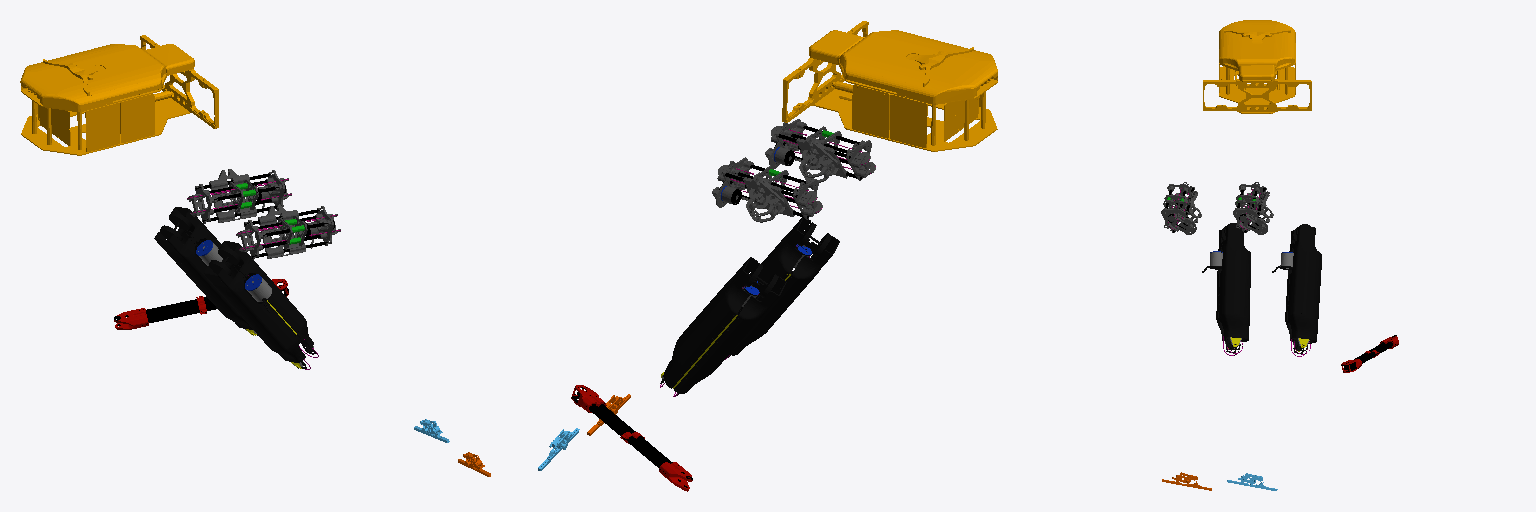
The robot description file, URDF, robot "mercury":
<?xml version="1.0" ?>
<robot name="mercury" xmlns:xacro="http://ros.org/wiki/xacro">
  <!-- ===== DUMMY 'BASE' LINK ==== -->
  <link name="body">
    <inertial>
       <mass value="9.0"/> 
      <!--<mass value="9.5"/>-->
      <!-- <origin xyz="0.00347 0.0 0.22524"/> -->
      <origin xyz="0.0 0.0 0.22524"/>
      <inertia ixx="0.3006167" ixy="0" ixz="0" iyy="0.23837" iyz="0" izz="0.09690467"/>
    </inertial>
    <visual>
        <geometry>
         <mesh filename="meshes/white_torso.obj" scale="0.508 0.508 0.508"/>
     </geometry>
      <origin rpy="1.555 0 1.57" xyz="-0.46 -0.284 -.098"/>
    </visual>
    <!--<visual>-->
        <!--<geometry>-->
         <!--<mesh filename="meshes/color_torso.obj" scale="0.118 0.118 0.118"/>-->
     <!--</geometry>-->
       <!--<origin rpy="0 0 1.57" xyz="-0.12 0.204 -.0665"/>		-->
    <!--</visual>-->
  </link>
  <!-- IMU -->
  <joint name="fixed_imu" type="fixed">
    <axis xyz="0 1 0"/>
    <origin rpy="0 0 0" xyz="-0.02 -0.07 0.22"/>
    <parent link="body"/>
    <child link="imu" />
  </joint>
  <link name="imu">
    <inertial>
      <mass value="0.0000000000001"/>
      <origin xyz="0.0 0.0 0.0"/>
      <inertia ixx="0.0000000001" ixy="0" ixz="0.0" iyy="0.000000001" iyz="0" izz="0.00000000001"/>
    </inertial>
  </link>


  <!--!!!!!!!!!!!!!!!!!!!!!RIGHT LEG!!!!!!!!!!!!!!!!!!!!!!!!!!!!!!!!!!!!!!!!!!!!!!!!-->
  <joint name="1_torso_to_abduct_r_j" type="continuous">
    <axis xyz="1 0 0"/>
    <origin rpy="0 0 0" xyz="0.0 -0.1397 0.0"/>
    <parent link="body"/>
    <child link="abduct_r"/>
  </joint>
  <link name="abduct_r">
    <inertial>
      <mass value="2.1656"/>
      <origin xyz="-0.03416 -0.00075 0.04293"/>
      <inertia ixx="0.003735" ixy="0.0" ixz="0.0" iyy="0.01391" iyz="0.0" izz="0.01355"/>
    </inertial>
      <visual>
      <geometry>
        <mesh filename="meshes/color_abduction_R.dae" scale="0.001 0.001 0.001"/>
      </geometry>
      <origin rpy="3.14159 1 -1.675" xyz="-0.192 -0.079 -0.01"/>
    </visual>
 </link>

  <joint name="abduct_r_to_thigh_r_j" type="continuous">
    <axis xyz="0 1 0"/>
    <!-- <origin rpy="0 0 0.0" xyz="0.0 0.0 -0.03535"/> -->
    <origin rpy="0.01 0.0 0.007" xyz="0.0 0.0 -0.03535"/>
    <parent link="abduct_r"/>
    <child link="thigh_r"/>
  </joint>
  <link name="thigh_r">
    <inertial>
      <!-- <mass value="3.682"/> -->
      <mass value="3.6"/>
      <origin xyz="-0.00396 0.000018 -0.175"/>
      <inertia ixx="0.038482" ixy="0" ixz="0.0" iyy="0.039835" iyz="-0.003" izz="0.0042934"/>
    </inertial>
      <visual>
      <geometry>
        <mesh filename="meshes/color_thigh_R.dae" scale="0.001 0.001 0.001"/>
      </geometry>
      <origin rpy="0.25 2.538 0.3625" xyz="-0.105 -0.059 -0.482"/>
    </visual>
 </link>

  <joint name="thigh_r_to_knee_r_j" type="continuous">
    <axis xyz="0 1 0"/>
    <!--<origin rpy="0 0 -0.05974278" xyz="0.0181 0.0 -0.4575"/>-->
    <origin rpy="0.0 0 0.0" xyz="0.0181 0.00 -0.4575"/>
    <parent link="thigh_r"/>
    <child link="shank_r"/>
  </joint>
  <link name="shank_r">
    <inertial>
      <mass value="0.649"/>
      <origin xyz="0.0 0.0 -0.235"/>
      <inertia ixx="0.00338" ixy="0" ixz="0.0" iyy="0.00338" iyz="0" izz="0.000011"/>
    </inertial>
     <visual>
      <geometry>
        <mesh filename="meshes/color_shank_R.dae" scale="0.001 0.001 0.001"/>
      </geometry>
      <!--<origin rpy="0 0 0" xyz="-0.218 0.0565 -0.092"/>-->
      <origin rpy="-1.885 0 2.25" xyz="-0.206 0.059 -0.08"/>
    </visual>
  </link>

  <joint name="ankle_r" type="continuous">
    <axis xyz="0 1 0"/>
    <!-- <origin rpy="0 0 0" xyz="0.0 0.0 -0.47"/> -->
    <origin rpy="0 0 0" xyz="0.005 -0.01 -0.47"/> 
    <parent link="shank_r"/>
    <child link="rfoot" />
  </joint>
  <link name="rfoot">
    <inertial>
      <mass value="0.123"/>
      <origin xyz="0.0 0.0 0.0"/>
      <inertia ixx="0.00001" ixy="0" ixz="0.0" iyy="0.00001" iyz="0" izz="0.00001"/>
    </inertial>
      <visual>
      <geometry>
        <mesh filename="meshes/color_foot_R.obj" scale="1 1 1"/>
      </geometry>
      <!--<origin rpy="1.84159 1.3608 0.275" xyz="0.090 0.028 0.454"/>-->
      <origin rpy="1.6 1.38 0" xyz="0.097 0.05 0.455"/>
    </visual>
  </link>

  <!--!!!!!!!!!!!!!!!!!!!!!left LEG!!!!!!!!!!!!!!!!!!!!!!!!!!!!!!!!!!!!!!!!!!!!!!!!-->
  <joint name="2_torso_to_abduct_l_j" type="continuous">
    <axis xyz="1 0 0"/>
    <origin rpy="0 0 0" xyz="0.0 0.1397 0.0"/>
    <parent link="body"/>
    <child link="abduct_l"/>
  </joint>
  <link name="abduct_l">
    <inertial>
      <mass value="2.1656"/>
      <origin xyz="-0.03416 0.00075 0.04293"/>
      <inertia ixx="0.003735" ixy="0.0" ixz="0.0" iyy="0.01391" iyz="0.0" izz="0.01355"/>
    </inertial>
     <visual>
      <geometry>
        <mesh filename="meshes/color_abduction_L.dae" scale="0.001 0.001 0.001"/>
      </geometry>
      <!-- <origin rpy="1.5708 0 1.5708" xyz="0.0 0.0 -0.038"/> -->
      <origin rpy="3.14159 1 -1.675" xyz="-0.192 -0.079 -0.01"/>
    </visual>
 </link>

  <joint name="abduct_l_to_thigh_l_j" type="continuous">
    <axis xyz="0 1 0"/>
    <origin rpy="0.0 0 0.007" xyz="0.0 -0.005 -0.03535"/>
    <parent link="abduct_l"/>
    <child link="thigh_l"/>
  </joint>
  <link name="thigh_l">
    <inertial>
      <!-- <mass value="3.682"/> -->
      <mass value="3.6"/>
      <origin xyz="-0.00396 -0.000018 -0.175"/>
      <inertia ixx="0.038482" ixy="0" ixz="0.0" iyy="0.039835" iyz="0" izz="0.0042934"/>
    </inertial>
     <visual>
      <geometry>
        <mesh filename="meshes/color_thigh_L.dae" scale="0.001 0.001 0.001"/>
      </geometry>
      <origin rpy="0.275 2.538 0.3565" xyz="-0.105 -0.0655 -0.482"/>
    </visual>
   </link>

  <joint name="thigh_l_to_knee_l_j" type="continuous">
    <axis xyz="0 1 0"/>
    <!-- <origin rpy="0 0 -0.00472424" xyz="0.0181 0.0 -0.4575"/> -->
    <origin rpy="0 0 0.005" xyz="0.0181 -0.01 -0.4575"/>
    <parent link="thigh_l"/>
    <child link="shank_l"/>
  </joint>
  <link name="shank_l">
    <inertial>
      <mass value="0.649"/>
      <origin xyz="0.0 0.0 -0.235"/>
      <inertia ixx="0.00338" ixy="0" ixz="0.0" iyy="0.00338" iyz="0" izz="0.000011"/>
    </inertial>
     <visual>
      <geometry>
        <mesh filename="meshes/color_shank_L.dae" scale="0.001 0.001 0.001"/>
      </geometry>
       <!--<origin rpy="1.5708 1.075 0" xyz="-0.043 0.0565 -0.015"/> -->
      <origin rpy="-1.9 0.025 2.25" xyz="-0.21 0.059 -0.0885"/>
    </visual>
   </link>

  <joint name="ankle_l" type="continuous">
    <axis xyz="0 1 0"/>
    <origin rpy="0 0 0" xyz="0.005 -0.02 -0.47"/>
    <parent link="shank_l"/>
    <child link="lfoot" />
  </joint>
  <link name="lfoot">
    <inertial>
      <mass value="0.123"/>
      <origin xyz="0.0 0.0 0.0"/>
      <inertia ixx="0.00001" ixy="0" ixz="0.0" iyy="0.00001" iyz="0" izz="0.00001"/>
    </inertial>
   <visual>
      <geometry>
          <mesh filename="meshes/color_foot_L.obj" scale="1 1 1"/>
      </geometry>
      <!-- <origin rpy="1.5708 1.38 0" xyz="0.095 0.0698 0.450"/> -->
      <!--<origin rpy="1.84159 1.3608 0.275" xyz="0.090 0.0508 0.454"/>-->
      <origin rpy="1.57 1.375 0" xyz="0.095 0.0565 0.4525"/>
    </visual>
  </link>

  <!--!!!!!!!!!!!!!!!!!!!!! LED !!!!!!!!!!!!!!!!!!!!!!!!!!!!!!!!!!-->
  <!-- LED_Body 0: attached on the body front -->
  <joint name="fixed_bodyled0" type="fixed">
    <axis xyz="0 1 0"/>
    <origin rpy="0 0 0" xyz="0.077 0.0 0.0"/>
    <parent link="body"/>
    <child link="body_led0" />
  </joint>
  <link name="body_led0">
    <inertial>
      <mass value="0.000000000001"/>
      <origin xyz="0.0 0.0 0.0"/>
      <inertia ixx="0.000000001" ixy="0" ixz="0.0" iyy="0.00000000338" iyz="0" izz="0.000000000011"/>
    </inertial>
  </link>

    <!-- LED_Body 1: attached on the body front -->
  <joint name="fixed_bodyled1" type="fixed">
    <axis xyz="0 1 0"/>
    <origin rpy="0 0 0" xyz="0.077 0.144 0.3"/>
    <parent link="body"/>
    <child link="body_led1" />
  </joint>
  <link name="body_led1">
    <inertial>
      <mass value="0.000000000001"/>
      <origin xyz="0.0 0.0 0.0"/>
      <inertia ixx="0.000000001" ixy="0" ixz="0.0" iyy="0.00000000338" iyz="0" izz="0.000000000011"/>
    </inertial>
  </link>

  <!-- LED_Body 2: attached on the body front -->
  <joint name="fixed_bodyled2" type="fixed">
    <axis xyz="0 1 0"/>
    <origin rpy="0 0 0" xyz="0.077 -0.144 0.3"/>
    <parent link="body"/>
    <child link="body_led2" />
  </joint>
  <link name="body_led2">
    <inertial>
      <mass value="0.000000000001"/>
      <origin xyz="0.0 0.0 0.0"/>
      <inertia ixx="0.000000001" ixy="0" ixz="0.0" iyy="0.00000000338" iyz="0" izz="0.000000000011"/>
    </inertial>
  </link>

  <!-- LED_Right 0: On the Right thigh upper -->
  <joint name="fixed_led1" type="fixed">
    <axis xyz="0 1 0"/>
    <origin rpy="0 0 0" xyz="0.075 0.0 -0.093"/>
    <parent link="thigh_r"/>
    <child link="rleg_led0" />
  </joint>
  <link name="rleg_led0">
    <inertial>
      <mass value="0.000000000001"/>
      <origin xyz="0.0 0.0 0.0"/>
      <inertia ixx="0.000000001" ixy="0" ixz="0.0" iyy="0.00000000338" iyz="0" izz="0.000000000011"/>
    </inertial>
  </link>

  <!-- LED_Right 1: On the Right thigh lower -->
  <joint name="fixed_led2" type="fixed">
    <axis xyz="0 1 0"/>
    <origin rpy="0 0 0" xyz="0.075 0.0 -0.42"/>
    <parent link="thigh_r"/>
    <child link="rleg_led1" />
  </joint>
  <link name="rleg_led1">
    <inertial>
      <mass value="0.000000000001"/>
      <origin xyz="0.0 0.0 0.0"/>
      <inertia ixx="0.000000001" ixy="0" ixz="0.0" iyy="0.000000001" iyz="0" izz="0.000000000011"/>
    </inertial>
  </link>

  <!-- LED_Right 2: On the Right Shank upper -->
  <joint name="fixed_led3" type="fixed">
    <axis xyz="0 1 0"/>
    <origin rpy="0 0 0" xyz="0.035 -0.0 -0.050"/>
    <parent link="shank_r"/>
    <child link="rleg_led2" />
  </joint>
  <link name="rleg_led2">
    <inertial>
      <mass value="0.000000000001"/>
      <origin xyz="0.0 0.0 0.0"/>
      <inertia ixx="0.000000001" ixy="0" ixz="0.0" iyy="0.00000000338" iyz="0" izz="0.000000000011"/>
    </inertial>
  </link>

  <!-- LED_Right 3: On the Right Shank lower (foot - outside) -->
  <joint name="fixed_led4" type="fixed">
    <axis xyz="0 1 0"/>
    <origin rpy="0 0 0" xyz="0.0 -0.025 -0.50"/>
    <parent link="shank_r"/>
    <child link="rleg_led3" />
  </joint>
  <link name="rleg_led3">
    <inertial>
      <mass value="0.000000000001"/>
      <origin xyz="0.0 0.0 0.0"/>
      <inertia ixx="0.000000001" ixy="0" ixz="0.0" iyy="0.00000000338" iyz="0" izz="0.000000000011"/>
    </inertial>
  </link>
  
  <!-- LED_Right 4: On the Right Shank lower (foot - inside) -->
  <joint name="fixed_led5" type="fixed">
    <axis xyz="0 1 0"/>
    <origin rpy="0 0 0" xyz="0.0 0.025 -0.50"/>
    <parent link="shank_r"/>
    <child link="rleg_led4" />
  </joint>
  <link name="rleg_led4">
    <inertial>
      <mass value="0.000000000001"/>
      <origin xyz="0.0 0.0 0.0"/>
      <inertia ixx="0.000000001" ixy="0" ixz="0.0" iyy="0.00000000338" iyz="0" izz="0.000000000011"/>
    </inertial>
  </link>

  <!-- LED_Left 0: On the Left thigh upper -->
  <joint name="fixed_led6" type="fixed">
    <axis xyz="0 1 0"/>
    <origin rpy="0 0 0" xyz="0.075 0.0 -0.098"/>
    <parent link="thigh_l"/>
    <child link="lleg_led0" />
  </joint>
  <link name="lleg_led0">
    <inertial>
      <mass value="0.000000000001"/>
      <origin xyz="0.0 0.0 0.0"/>
      <inertia ixx="0.000000001" ixy="0" ixz="0.0" iyy="0.00000000338" iyz="0" izz="0.000000000011"/>
    </inertial>
  </link>

  <!-- LED_Left 1: On the Left thigh lower -->
  <joint name="fixed_led7" type="fixed">
    <axis xyz="0 1 0"/>
    <origin rpy="0 0 0" xyz="0.075 0.0 -0.42"/>
    <parent link="thigh_l"/>
    <child link="lleg_led1" />
  </joint>
  <link name="lleg_led1">
    <inertial>
      <mass value="0.000000000001"/>
      <origin xyz="0.0 0.0 0.0"/>
      <inertia ixx="0.000000001" ixy="0" ixz="0.0" iyy="0.000000001" iyz="0" izz="0.000000000011"/>
    </inertial>
  </link>

  <!-- LED_Left 2: On the Left Shank upper -->
  <joint name="fixed_led8" type="fixed">
    <axis xyz="0 1 0"/>
    <origin rpy="0 0 0" xyz="0.04 0.0 -0.045"/>
    <parent link="shank_l"/>
    <child link="lleg_led2" />
  </joint>
  <link name="lleg_led2">
    <inertial>
      <mass value="0.000000000001"/>
      <origin xyz="0.0 0.0 0.0"/>
      <inertia ixx="0.000000001" ixy="0" ixz="0.0" iyy="0.00000000338" iyz="0" izz="0.000000000011"/>
    </inertial>
  </link>

  <!-- LED_Left 3: On the Left Shank lower -->
  <joint name="fixed_led9" type="fixed">
    <axis xyz="0 1 0"/>
    <origin rpy="0 0 0" xyz="0.0 0.017 -0.50"/> <!-- -0.0165 m in for y direction -->
    <parent link="shank_l"/>
    <child link="lleg_led3" />
  </joint>
  <link name="lleg_led3">
    <inertial>
      <mass value="0.000000000001"/>
      <origin xyz="0.0 0.0 0.0"/>
      <inertia ixx="0.000000001" ixy="0" ixz="0.0" iyy="0.00000000338" iyz="0" izz="0.000000000011"/>
    </inertial>
  </link>

  <!-- LED_Left 4: On the Left Shank lower (inside) -->
  <joint name="fixed_led10" type="fixed">
    <axis xyz="0 1 0"/>
    <origin rpy="0 0 0" xyz="0.0 -0.033 -0.50"/> <!-- -0.0165 m in for y direction -->
    <parent link="shank_l"/>
    <child link="lleg_led4" />
  </joint>
  <link name="lleg_led4">
    <inertial>
      <mass value="0.000000000001"/>
      <origin xyz="0.0 0.0 0.0"/>
      <inertia ixx="0.000000001" ixy="0" ixz="0.0" iyy="0.00000000338" iyz="0" izz="0.000000000011"/>
    </inertial>
  </link>
</robot>

--- What the picture shows (computed from the rendered views, not written in the file) ---
Views: 3 orthographic renders of the robot side by side, from view 1: azimuth 30°, elevation 25°; view 2: azimuth 150°, elevation 25°; view 3: azimuth 270°, elevation 25°.
Robot: mercury — 23 links, 22 joints (8 continuous, 14 fixed); root link body; default pose: every joint at zero.
Links seen in each view (by area): view 1: body, thigh_r, thigh_l, abduct_r, abduct_l, shank_l; view 2: body, thigh_l, thigh_r, abduct_l, abduct_r, shank_l; view 3: body, thigh_l, thigh_r, abduct_r, abduct_l, shank_l.
Boxes of the visible links, x1,y1,x2,y2 form: body: [20, 35, 218, 155]; thigh_r: [203, 241, 318, 369]; thigh_l: [154, 207, 257, 335]; abduct_r: [236, 204, 340, 259]; abduct_l: [187, 169, 291, 223]; shank_l: [114, 279, 288, 329]; body: [782, 21, 997, 151]; thigh_l: [660, 257, 786, 396]; thigh_r: [725, 217, 839, 359]; abduct_l: [712, 157, 822, 222]; abduct_r: [765, 119, 875, 182]; shank_l: [571, 385, 692, 491]; body: [1203, 20, 1311, 113]; thigh_l: [1272, 224, 1321, 356]; thigh_r: [1202, 223, 1250, 355]; abduct_r: [1161, 182, 1201, 234]; abduct_l: [1233, 182, 1273, 234]; shank_l: [1341, 335, 1398, 372].
Size in the robot's own frame: 1.33 by 0.9294 by 1.43 metres.
Meshes: 9 distinct files referenced, 8 mesh visuals loaded (5 Collada DAE, 3 OBJ); not drawn: 1 (reference not matched to a file when rendering).